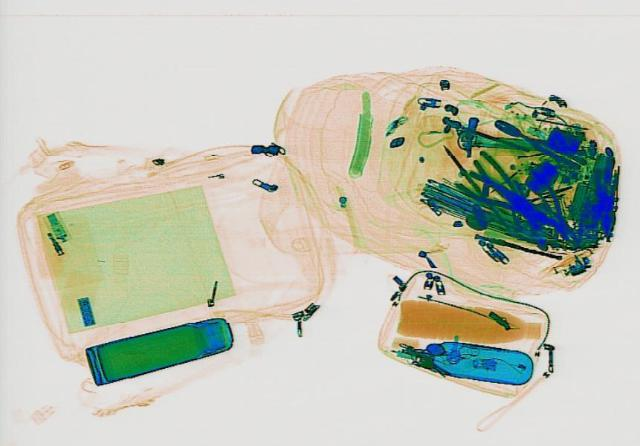Pliers: (507, 169, 593, 249), (485, 113, 589, 170), (448, 168, 552, 224)
